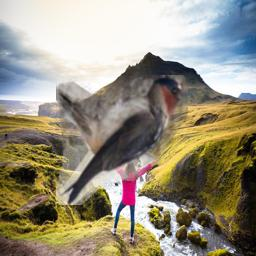Swallow: (56, 75, 188, 205)
